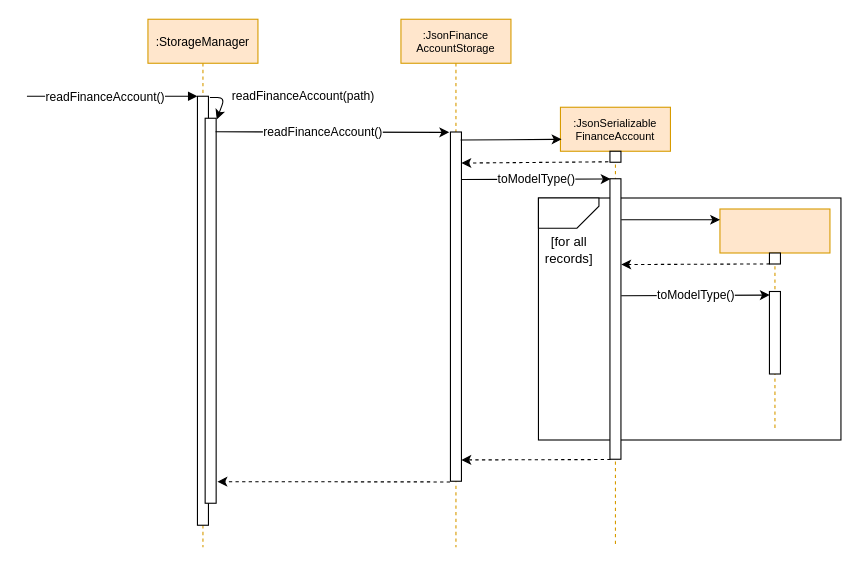
Image size: 860x567. Some labels were removed from this diagram. Here are the shapes that lost their labels. From the top down, the centre of each, then its label:
At point 568,212: "loop".
At point 774,318: ":JsonAdapted FinanceRecord".
